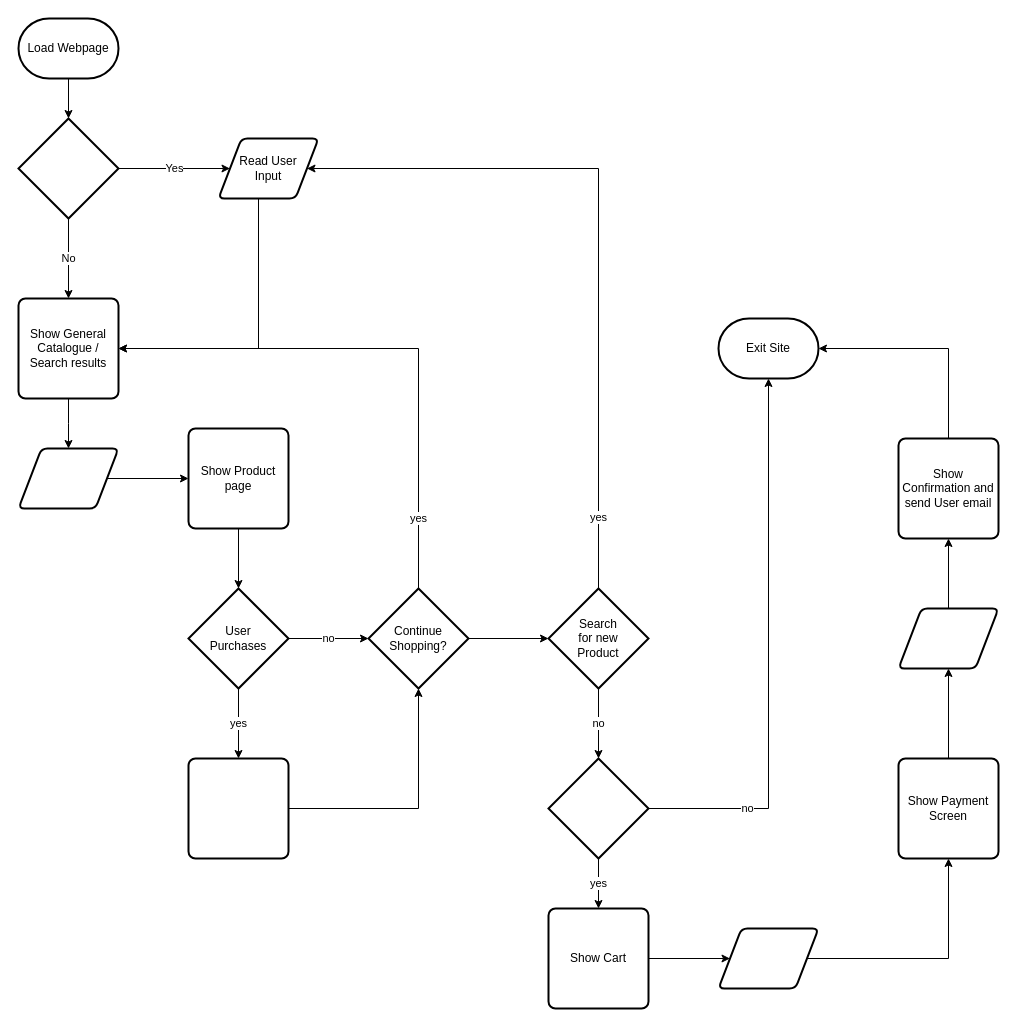
Image size: 1016x1026. Some labels were removed from this diagram. Each missing label, with the centre of its shape:
"Add Item to Cart" belongs at [238,808].
"checkout" belongs at [598,808].
"Read User Payment Info" belongs at [948,638].
"Search Input" belongs at [68,168].
"User Clicks Product" belongs at [68,478].
"User Confirms Cart" belongs at [768,958].
